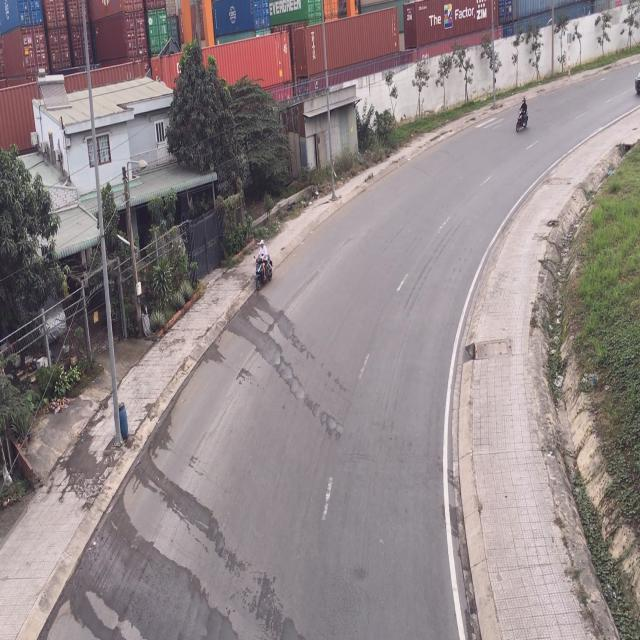motorbike: (256, 240, 275, 290), (514, 95, 530, 133)
